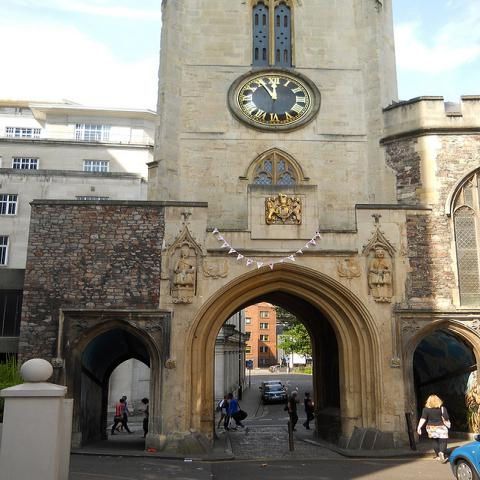car: (450, 433, 479, 479), (259, 384, 289, 403), (261, 378, 282, 386)
